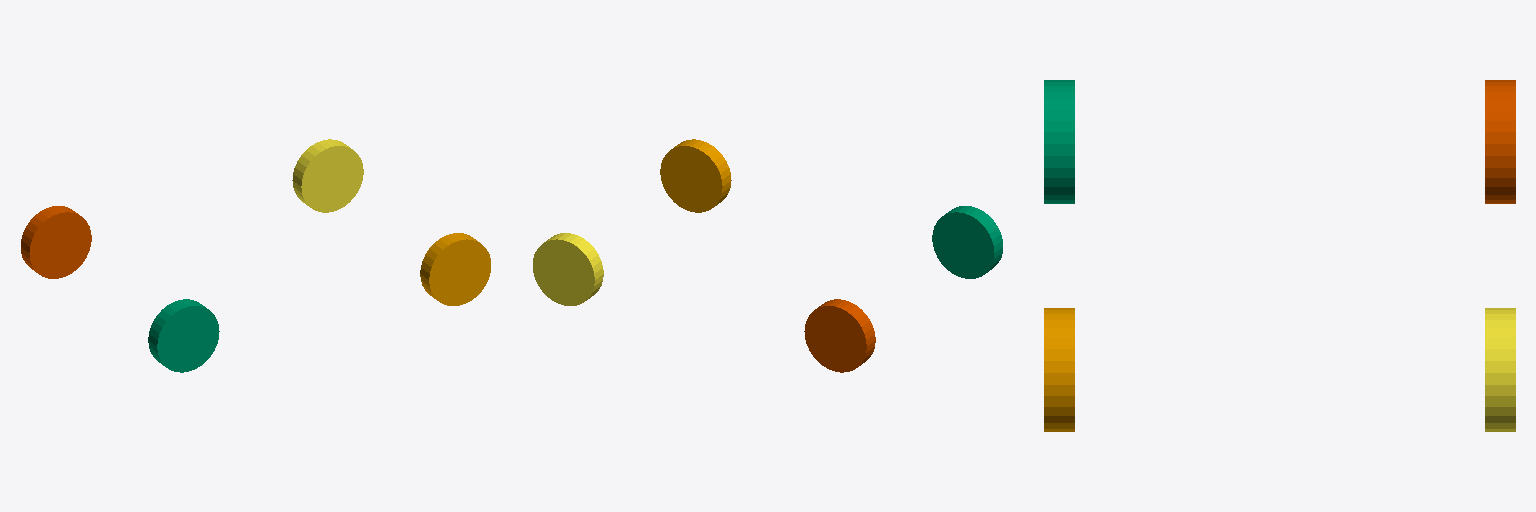
robot.urdf — MiniLiteV3:
<?xml version="1.0" encoding="utf-8"?>
<robot name="MiniLiteV3">

  <link name="TORSO">
    <visual>
      <geometry>
        <mesh filename="../meshes/TORSO.dae" />
      </geometry>
    </visual>
    <collision>
      <geometry>
        <box size="0.234 0.184 0.08"/>
      </geometry>
    </collision>
  </link>

  <joint name="Torso2Inertia" type="fixed">
    <parent link="TORSO" />
    <child link="INERTIA" />
  </joint>

  <link name="INERTIA">
    <!-- <inertial>
      <origin xyz="0.046396 -0.0017592 0.028665" />
      <mass value="5.298" />
      <inertia ixx="0.0095569" ixy="5.9672E-05" ixz="9.3193E-05" iyy="0.014357" iyz="1.9063E-05" izz="0.01949" />
    </inertial> -->
    <inertial>
      <!-- <origin xyz="0.004098 -0.000663 -0.002069" /> -->
      <origin xyz="-0.02 -0.000663 -0.002069" />
      <mass value="6.130" />
      <inertia ixx="0.016982120" ixy="2.1294E-05" ixz="6.0763E-05" iyy="0.030466501" iyz="1.7968E-05" izz="0.042609956" />
    </inertial>
  </link>

  <joint name="FL_HipX_joint" type="revolute">
    <origin xyz="0.1745 0.062 0" />
    <parent link="TORSO" />
    <child link="FL_HIP" />
    <axis xyz="1 0 0" />
    <dynamics damping="0.01" friction="0.03"/>
    <limit lower="-0.523" upper="0.523" effort="24" velocity="25" />
  </joint>
  
  <link name="FL_HIP">
    <inertial>
      <origin xyz="-0.0047 -0.0091 -0.0018" />
      <mass value="0.428" />
      <inertia ixx="0.00014538" ixy="8.1579E-07" ixz="-1.264E-05" iyy="0.00024024" iyz="1.3443E-06" izz="0.00013038" />
    </inertial>
    <visual>
      <geometry>
        <mesh filename="../meshes/FL_HIP.dae" />
      </geometry>
    </visual>
  </link>
  
  <joint name="FL_hip_fixed" type="fixed" dont_collapse="true">
    <origin rpy="0 0 0" xyz="0 0.08 0"/>
    <parent link="FL_HIP"/>
    <child link="FL_shoulder"/>
  </joint>
  <link name="FL_shoulder">
    <visual>
      <origin rpy="1.57079632679 0 0" xyz="0 0 0"/>
      <geometry>
        <cylinder length="0.02" radius="0.04"/>
      </geometry>
    </visual>
    <collision>
      <origin rpy="1.57079632679 0 0" xyz="0 0 0"/>
      <geometry>
        <cylinder length="0.02" radius="0.04"/>
      </geometry>
    </collision>
    <inertial>
      <mass value="0.0001"/>
      <inertia ixx="9.6e-06" ixy="0.0" ixz="0.0" iyy="9.6e-06" iyz="0.0" izz="9.6e-06"/>
    </inertial>
  </link>

  <joint name="FL_HipY_joint" type="revolute">
    <origin xyz="0 0.0875 0" />
    <parent link="FL_HIP" />
    <child link="FL_THIGH" />
    <axis xyz="0 1 0" />
    <dynamics damping="0.01" friction="0.03"/>
    <limit lower="-0.314" upper="2.67" effort="24" velocity="25" />
  </joint>
  
  <link name="FL_THIGH">
    <inertial>
      <origin xyz="-0.00523 -0.0216 -0.0273" />
      <mass value="0.61" />
      <inertia ixx="0.001" ixy="-2.5E-06" ixz="-1.12E-04" iyy="0.00116" iyz="3.75E-07" izz="2.68E-04" />
    </inertial>
    <visual>
      <geometry>
        <mesh filename="../meshes/L_THIGH.dae" />
      </geometry>
    </visual>
    <collision>
      <origin xyz="0 0 -0.08"/>
      <geometry>
        <box size="0.02 0.02 0.16"/>
      </geometry>
    </collision>
  </link>

  <joint name="FL_Knee_joint" type="revolute">
    <origin xyz="0.0 0 -0.18" />
    <parent link="FL_THIGH" />
    <child link="FL_SHANK" />
    <axis xyz="0 1 0" />
    <dynamics damping="0.01" friction="0.03"/>
    <limit lower="-2.792" upper="-0.524" effort="36.7" velocity="17" />
  </joint>

  <link name="FL_SHANK">
    <inertial>
      <origin xyz="0.00585 -8.732E-07 -0.12" />
      <mass value="0.115" />
      <inertia ixx="6.68E-04" ixy="-1.24E-08" ixz="6.91E-06" iyy="6.86E-04" iyz="5.65E-09" izz="3.155E-05" />
    </inertial>
    <visual>
      <geometry>
        <mesh filename="../meshes/SHANK.dae" />
      </geometry>
    </visual>
    <collision>
      <origin xyz="0 0 -0.09"/>
      <geometry>
        <box size="0.02 0.02 0.18"/>
      </geometry>
    </collision>
  </link>

  <joint name="FL_Ankle" type="fixed" dont_collapse="true">
    <origin xyz="0 0 -0.21"/>
    <parent link="FL_SHANK" />
    <child link="FL_FOOT" />
  </joint>

  <link name="FL_FOOT">
    <inertial>
      <mass value="0.06" />
      <inertia ixx="1E-6" ixy="0" ixz="0" iyy="1E-6" iyz="0" izz="1E-6" />
    </inertial>
    <collision>
      <geometry>
        <sphere radius="0.02"/>
      </geometry>
    </collision>
  </link>

  <joint name="FR_HipX_joint" type="revolute">
    <origin xyz="0.1745 -0.062 0" />
    <parent link="TORSO" />
    <child link="FR_HIP" />
    <axis xyz="1 0 0" />
    <dynamics damping="0.01" friction="0.03"/>
    <limit lower="-0.523" upper="0.523" effort="24" velocity="25" />
  </joint>

  <link name="FR_HIP">
    <inertial>
      <origin xyz="-0.0047 0.0091 -0.0018" />
      <mass value="0.428" />
      <inertia ixx="0.00014538" ixy="-8.1551E-07" ixz="-1.2639E-05" iyy="0.00024024" iyz="-1.3441E-06" izz="0.00013038" />
    </inertial>
    <visual>
      <geometry>
        <mesh filename="../meshes/FR_HIP.dae" />
      </geometry>
    </visual>
  </link>

  <joint name="FR_hip_fixed" type="fixed" dont_collapse="true">
    <origin rpy="0 0 0" xyz="0 -0.08 0"/>
    <parent link="FR_HIP"/>
    <child link="FR_shoulder"/>
  </joint>
  <link name="FR_shoulder">
    <visual>
      <origin rpy="1.57079632679 0 0" xyz="0 0 0"/>
      <geometry>
        <cylinder length="0.02" radius="0.04"/>
      </geometry>
    </visual>
    <collision>
      <origin rpy="1.57079632679 0 0" xyz="0 0 0"/>
      <geometry>
        <cylinder length="0.02" radius="0.04"/>
      </geometry>
    </collision>
    <inertial>
      <mass value="0.0001"/>
      <inertia ixx="9.6e-06" ixy="0.0" ixz="0.0" iyy="9.6e-06" iyz="0.0" izz="9.6e-06"/>
    </inertial>
  </link>

  <joint name="FR_HipY_joint" type="revolute">
    <origin xyz="0 -0.0875 0" />
    <parent link="FR_HIP" />
    <child link="FR_THIGH" />
    <axis xyz="0 1 0" />
    <dynamics damping="0.01" friction="0.03"/>
    <limit lower="-0.314" upper="2.67" effort="24" velocity="25" />
  </joint>

  <link name="FR_THIGH">
    <inertial>
      <origin xyz="-0.00523 0.0216 -0.0273" />
      <mass value="0.61" />
      <inertia ixx="0.001" ixy="2.5E-06" ixz="-1.12E-04" iyy="0.00116" iyz="-3.75E-07" izz="2.68E-04" />
    </inertial>
    <visual>
      <geometry>
        <mesh filename="../meshes/R_THIGH.dae" />
      </geometry>
    </visual>
    <collision>
      <origin xyz="0 0 -0.08"/>
      <geometry>
        <box size="0.02 0.02 0.16"/>
      </geometry>
    </collision>
  </link>

  <joint name="FR_Knee_joint" type="revolute">
    <origin xyz="0 0 -0.18" />
    <parent link="FR_THIGH" />
    <child link="FR_SHANK" />
    <axis xyz="0 1 0" />
    <dynamics damping="0.01" friction="0.03"/>
    <limit lower="-2.792" upper="-0.524" effort="36.7" velocity="17" />
  </joint>

  <link name="FR_SHANK">
    <inertial>
      <origin xyz="0.00585 -8.732E-07 -0.12" />
      <mass value="0.115" />
      <inertia ixx="6.68E-04" ixy="-1.24E-08" ixz="6.91E-06" iyy="6.86E-04" iyz="5.65E-09" izz="3.155E-05" />
    </inertial>
    <visual>
      <geometry>
        <mesh filename="../meshes/SHANK.dae" />
      </geometry>
    </visual>
    <collision>
      <origin xyz="0 0 -0.09"/>
      <geometry>
        <box size="0.02 0.02 0.18"/>
      </geometry>
    </collision>
  </link>

  <joint name="FR_Ankle" type="fixed" dont_collapse="true">
    <origin xyz="0 0 -0.21"/>
    <parent link="FR_SHANK" />
    <child link="FR_FOOT" />
  </joint>

  <link name="FR_FOOT">
    <inertial>
      <mass value="0.06" />
      <inertia ixx="1E-6" ixy="0" ixz="0" iyy="1E-6" iyz="0" izz="1E-6" />
    </inertial>
    <collision>
      <geometry>
        <sphere radius="0.02"/> 
        <!-- 0.13 -->
      </geometry>
    </collision>
  </link>

  <joint name="HL_HipX_joint" type="revolute">
    <origin xyz="-0.1745 0.062 0" />
    <parent link="TORSO" />
    <child link="HL_HIP" />
    <axis xyz="1 0 0" />
    <dynamics damping="0.01" friction="0.03"/>
    <limit lower="-0.523" upper="0.523" effort="24" velocity="25" />
  </joint>

  <link name="HL_HIP">
    <inertial>
      <origin xyz="0.0047 -0.0091 -0.0018" />
      <mass value="0.428" />
      <inertia ixx="0.00014538" ixy="-8.1585E-07" ixz="1.2639E-05" iyy="0.00024024" iyz="1.3444E-06" izz="0.00013038" />
    </inertial>
    <visual>
      <geometry>
        <mesh filename="../meshes/HL_HIP.dae" />
      </geometry>
    </visual>
  </link>

  <joint name="HL_hip_fixed" type="fixed" dont_collapse="true">
    <origin rpy="0 0 0" xyz="0 0.08 0"/>
    <parent link="HL_HIP"/>
    <child link="HL_shoulder"/>
  </joint>
  <link name="HL_shoulder">
    <visual>
      <origin rpy="1.57079632679 0 0" xyz="0 0 0"/>
      <geometry>
        <cylinder length="0.02" radius="0.04"/>
      </geometry>
    </visual>
    <collision>
      <origin rpy="1.57079632679 0 0" xyz="0 0 0"/>
      <geometry>
        <cylinder length="0.02" radius="0.04"/>
      </geometry>
    </collision>
    <inertial>
      <mass value="0.0001"/>
      <inertia ixx="9.6e-06" ixy="0.0" ixz="0.0" iyy="9.6e-06" iyz="0.0" izz="9.6e-06"/>
    </inertial>
  </link>

  <joint name="HL_HipY_joint" type="revolute">
    <origin xyz="0 0.0875 0" />
    <parent link="HL_HIP" />
    <child link="HL_THIGH" />
    <axis xyz="0 1 0" />
    <dynamics damping="0.01" friction="0.03"/>
    <limit lower="-0.314" upper="2.67" effort="24" velocity="25" />
  </joint>

  <link name="HL_THIGH">
    <inertial>
      <origin xyz="-0.00523 -0.0216 -0.0273" />
      <mass value="0.61" />
      <inertia ixx="0.001" ixy="-2.5E-06" ixz="-1.12E-04" iyy="0.00116" iyz="3.75E-07" izz="2.68E-04" />
    </inertial>
    <visual>
      <geometry>
        <mesh filename="../meshes/L_THIGH.dae" />
      </geometry>
    </visual>
    <collision>
      <origin xyz="0 0 -0.08"/>
      <geometry>
        <box size="0.02 0.02 0.16"/>
      </geometry>
    </collision>
  </link>

  <link name="HL_SHANK">
    <inertial>
      <origin xyz="0.00585 -8.732E-07 -0.12" />
      <mass value="0.115" />
      <inertia ixx="6.68E-04" ixy="-1.24E-08" ixz="6.91E-06" iyy="6.86E-04" iyz="5.65E-09" izz="3.155E-05" />
    </inertial>
    <visual>
      <geometry>
        <mesh filename="../meshes/SHANK.dae" />
      </geometry>
    </visual>
    <collision>
      <origin xyz="0 0 -0.09"/>
      <geometry>
        <box size="0.02 0.02 0.18"/>
      </geometry>
    </collision>
  </link>

  <joint name="HL_Knee_joint" type="revolute">
    <origin xyz="0 0 -0.18" />
    <parent link="HL_THIGH" />
    <child link="HL_SHANK" />
    <axis xyz="0 1 0" />
    <dynamics damping="0.01" friction="0.03"/>
    <limit lower="-2.792" upper="-0.524" effort="36.7" velocity="17" />
  </joint>

  <link name="HL_FOOT">
    <inertial>
      <mass value="0.06" />
      <inertia ixx="1E-6" ixy="0" ixz="0" iyy="1E-6" iyz="0" izz="1E-6" />
    </inertial>
    <collision>
      <geometry>
        <sphere radius="0.02"/>
      </geometry>
    </collision>
  </link>

  <joint name="HL_Ankle" type="fixed" dont_collapse="true">
    <origin xyz="0 0 -0.21"/>
    <parent link="HL_SHANK" />
    <child link="HL_FOOT" />
  </joint>

  <joint name="HR_HipX_joint" type="revolute">
    <origin xyz="-0.1745 -0.062 0" />
    <parent link="TORSO" />
    <child link="HR_HIP" />
    <axis xyz="1 0 0" />
    <dynamics damping="0.01" friction="0.03"/>
    <limit lower="-0.523" upper="0.523" effort="24" velocity="25" />
  </joint>

  <link name="HR_HIP">
    <inertial>
      <origin xyz="0.0047 0.0091 -0.0018" />
      <mass value="0.428" />
      <inertia ixx="0.00014538" ixy="8.1545E-07" ixz="1.2639E-05" iyy="0.00024024" iyz="-1.344E-06" izz="0.00013038" />
    </inertial>
    <visual>
      <geometry>
        <mesh filename="../meshes/HR_HIP.dae" />
      </geometry>
    </visual>
  </link>

  <joint name="HR_hip_fixed" type="fixed" dont_collapse="true">
    <origin rpy="0 0 0" xyz="0 -0.08 0"/>
    <parent link="HR_HIP"/>
    <child link="HR_shoulder"/>
  </joint>
  <link name="HR_shoulder">
    <visual>
      <origin rpy="1.57079632679 0 0" xyz="0 0 0"/>
      <geometry>
        <cylinder length="0.02" radius="0.04"/>
      </geometry>
    </visual>
    <collision>
      <origin rpy="1.57079632679 0 0" xyz="0 0 0"/>
      <geometry>
        <cylinder length="0.02" radius="0.04"/>
      </geometry>
    </collision>
    <inertial>
      <mass value="0.0001"/>
      <inertia ixx="9.6e-06" ixy="0.0" ixz="0.0" iyy="9.6e-06" iyz="0.0" izz="9.6e-06"/>
    </inertial>
  </link>

  <joint name="HR_HipY_joint" type="revolute">
    <origin xyz="0 -0.0875 0" />
    <parent link="HR_HIP" />
    <child link="HR_THIGH" />
    <axis xyz="0 1 0" />
    <dynamics damping="0.01" friction="0.03"/>
    <limit lower="-0.314" upper="2.67" effort="24" velocity="25" />
  </joint>

  <link name="HR_THIGH">
    <inertial>
      <origin xyz="-0.00523 0.0216 -0.0273" />
      <mass value="0.61" />
      <inertia ixx="0.001" ixy="2.5E-06" ixz="-1.12E-04" iyy="0.00116" iyz="-3.75E-07" izz="2.68E-04" />
    </inertial>
    <visual>
      <geometry>
        <mesh filename="../meshes/R_THIGH.dae" />
      </geometry>
    </visual>
    <collision>
      <origin xyz="0 0 -0.08"/>
      <geometry>
        <box size="0.02 0.02 0.16"/>
      </geometry>
    </collision>
  </link>

  <joint name="HR_Knee_joint" type="revolute">
    <origin xyz="0 0 -0.18" />
    <parent link="HR_THIGH" />
    <child link="HR_SHANK" />
    <axis xyz="0 1 0" />
    <dynamics damping="0.01" friction="0.03"/>
    <limit lower="-2.792" upper="-0.524" effort="36.7" velocity="17" />
  </joint>

  <link name="HR_SHANK">
    <inertial>
      <origin xyz="0.00585 -8.732E-07 -0.12" />
      <mass value="0.115" />
      <inertia ixx="6.68E-04" ixy="-1.24E-08" ixz="6.91E-06" iyy="6.86E-04" iyz="5.65E-09" izz="3.155E-05" />
    </inertial>
    <visual>
      <geometry>
        <mesh filename="../meshes/SHANK.dae" />
      </geometry>
    </visual>
    <collision>
      <origin xyz="0 0 -0.09"/>
      <geometry>
        <box size="0.02 0.02 0.18"/>
      </geometry>
    </collision>
  </link>

  <joint name="HR_Ankle" type="fixed" dont_collapse="true">
    <origin xyz="0 0 -0.21"/>
    <parent link="HR_SHANK" />
    <child link="HR_FOOT" />
  </joint>

  <link name="HR_FOOT">
    <!-- <visual>
      <origin rpy="0 0 0" xyz="0 0 0"/>
      <geometry>
        <sphere radius="0.02"/>
      </geometry>
    </visual> -->
    <inertial>
      <mass value="0.06" />
      <inertia ixx="1E-6" ixy="0" ixz="0" iyy="1E-6" iyz="0" izz="1E-6" />
    </inertial>
    <collision>
      <geometry>
        <sphere radius="0.02"/>
      </geometry>
    </collision>
  </link>

</robot>

--- What the picture shows (computed from the rendered views, not written in the file) ---
3 views of the same robot in one strip: view 1: azimuth 30°, elevation 25°; view 2: azimuth 150°, elevation 25°; view 3: azimuth 270°, elevation 25° (orthographic).
Robot: MiniLiteV3 — 22 links, 21 joints (12 revolute, 9 fixed); root link TORSO; default pose: joints at zero except 4 at the middle of their limits (FL_Knee_joint = -1.66, FR_Knee_joint = -1.66, HL_Knee_joint = -1.66, HR_Knee_joint = -1.66).
Visible links, largest first — view 1: FR_shoulder, HL_shoulder, FL_shoulder, HR_shoulder; view 2: FL_shoulder, HR_shoulder, FR_shoulder, HL_shoulder; view 3: FL_shoulder, FR_shoulder, HL_shoulder, HR_shoulder.
Boxes of the visible links, <box> form: FR_shoulder: <box>420,233,490,305</box>; HL_shoulder: <box>21,206,91,278</box>; FL_shoulder: <box>292,139,363,212</box>; HR_shoulder: <box>148,299,219,372</box>; FL_shoulder: <box>533,233,603,305</box>; HR_shoulder: <box>932,206,1002,278</box>; FR_shoulder: <box>660,139,731,212</box>; HL_shoulder: <box>804,299,875,372</box>; FL_shoulder: <box>1485,308,1515,431</box>; FR_shoulder: <box>1044,308,1074,431</box>; HL_shoulder: <box>1485,80,1515,203</box>; HR_shoulder: <box>1044,80,1074,203</box>.
Size in the robot's own frame: 0.429 by 0.304 by 0.08 metres.
Meshes: 8 distinct files referenced, 0 mesh visuals loaded (none loaded); not drawn: 13 (reference not matched to a file when rendering).